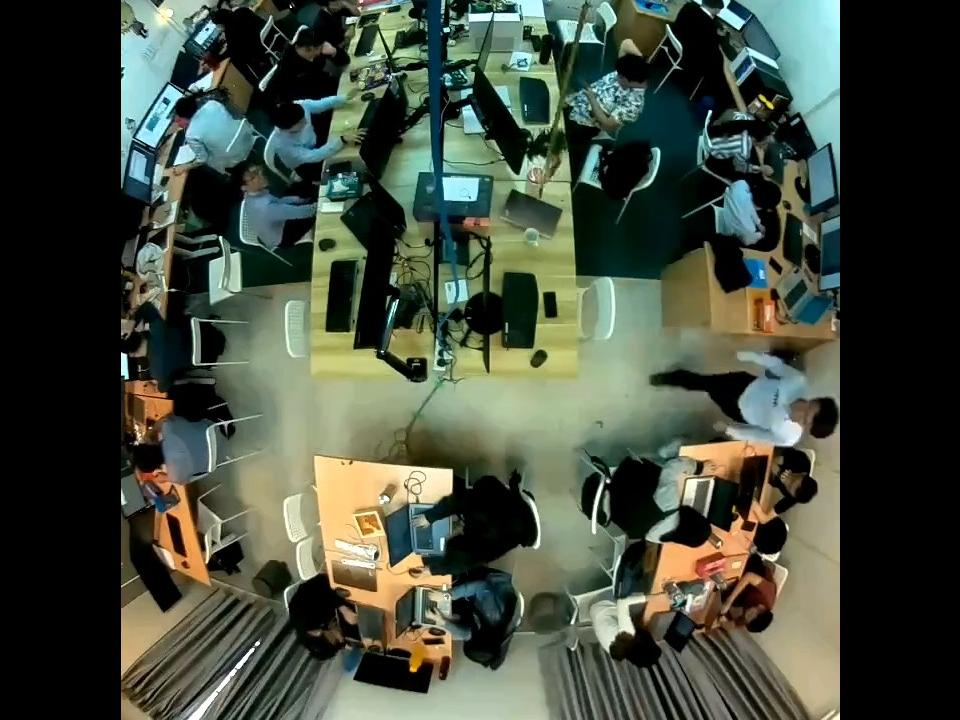name-tag: (770, 386, 780, 410)
